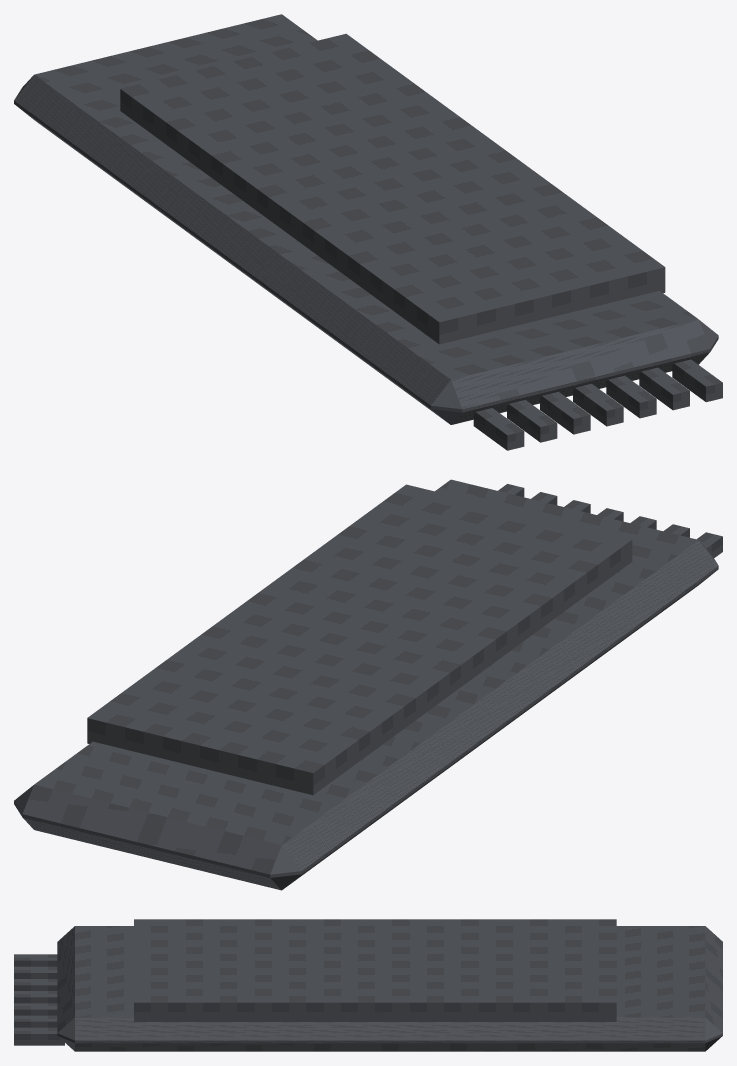
The model's file is knit_scarf_loose.glb.
3 renders of one model, top to bottom at view 1: azimuth 30°, elevation 25°; view 2: azimuth 150°, elevation 25°; view 3: azimuth 270°, elevation 25°, orthographic. The views are drawn at different scales.
Parts seen in each view (by area): view 1: block_overlapping fold, block_loose folded scarf, block_fringe (×7); view 2: block_overlapping fold, block_loose folded scarf; view 3: block_overlapping fold, block_loose folded scarf, block_fringe (×7).
Part boxes in pixels (x1,y1,x2,y2): block_overlapping fold: (120,33,665,344); block_loose folded scarf: (14,14,718,424); block_fringe (×7): (473,359,722,450); block_overlapping fold: (87,484,632,795); block_loose folded scarf: (14,479,718,890); block_overlapping fold: (134,919,616,1021); block_loose folded scarf: (57,926,722,1051); block_fringe (×7): (14,954,64,1045).
Size of the model in its own units: 0.0851 by 0.0191 by 0.2399.
Materials: 1 (1 with a texture image).
